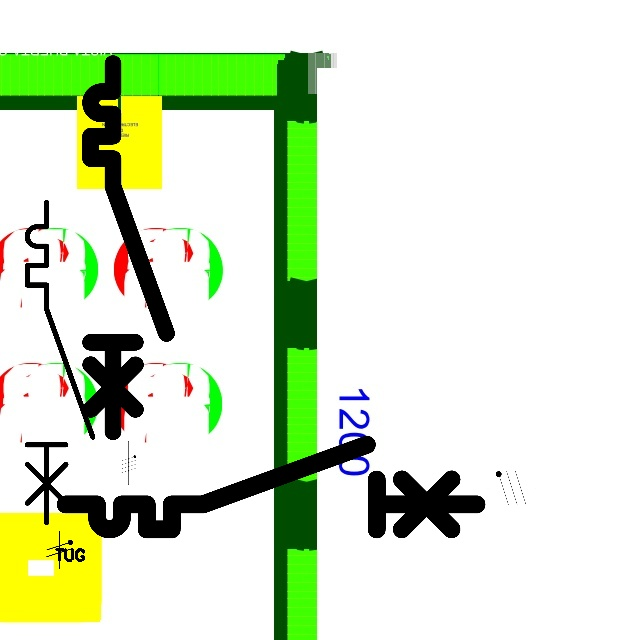interruptor_termomagnetico: (55, 434, 487, 540), (81, 54, 175, 441), (19, 194, 101, 530)
